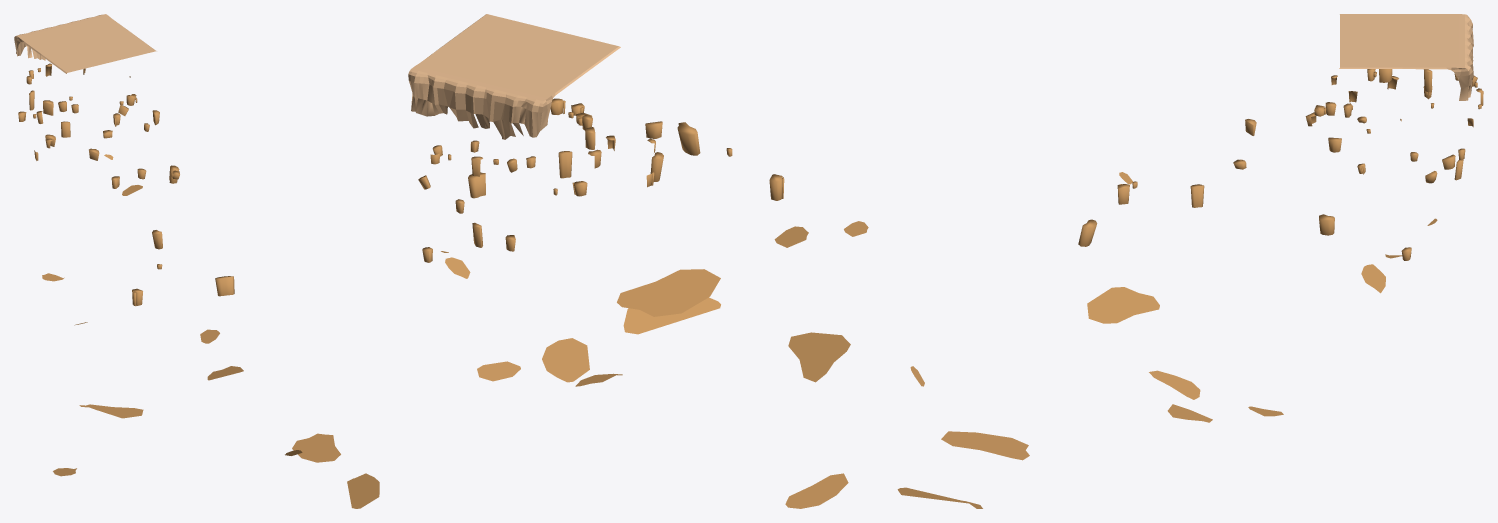
The model's file is stage001.fbx.
The picture shows the model from 3 angles, left to right: view 1: azimuth 30°, elevation 25°; view 2: azimuth 150°, elevation 25°; view 3: azimuth 270°, elevation 25°; orthographic projection. The views are drawn at different scales.
Visible parts, largest first — view 1: obj_ST001_Infinite_others.001; view 2: obj_ST001_Infinite_others.001; view 3: obj_ST001_Infinite_others.001.
Part boxes in pixels (left/top/right/bottom): obj_ST001_Infinite_others.001: left=14, top=14, right=379, bottom=508; obj_ST001_Infinite_others.001: left=408, top=14, right=868, bottom=508; obj_ST001_Infinite_others.001: left=897, top=14, right=1483, bottom=508.
Bounding box in the file's own units: 10220 × 14610 × 18580.
